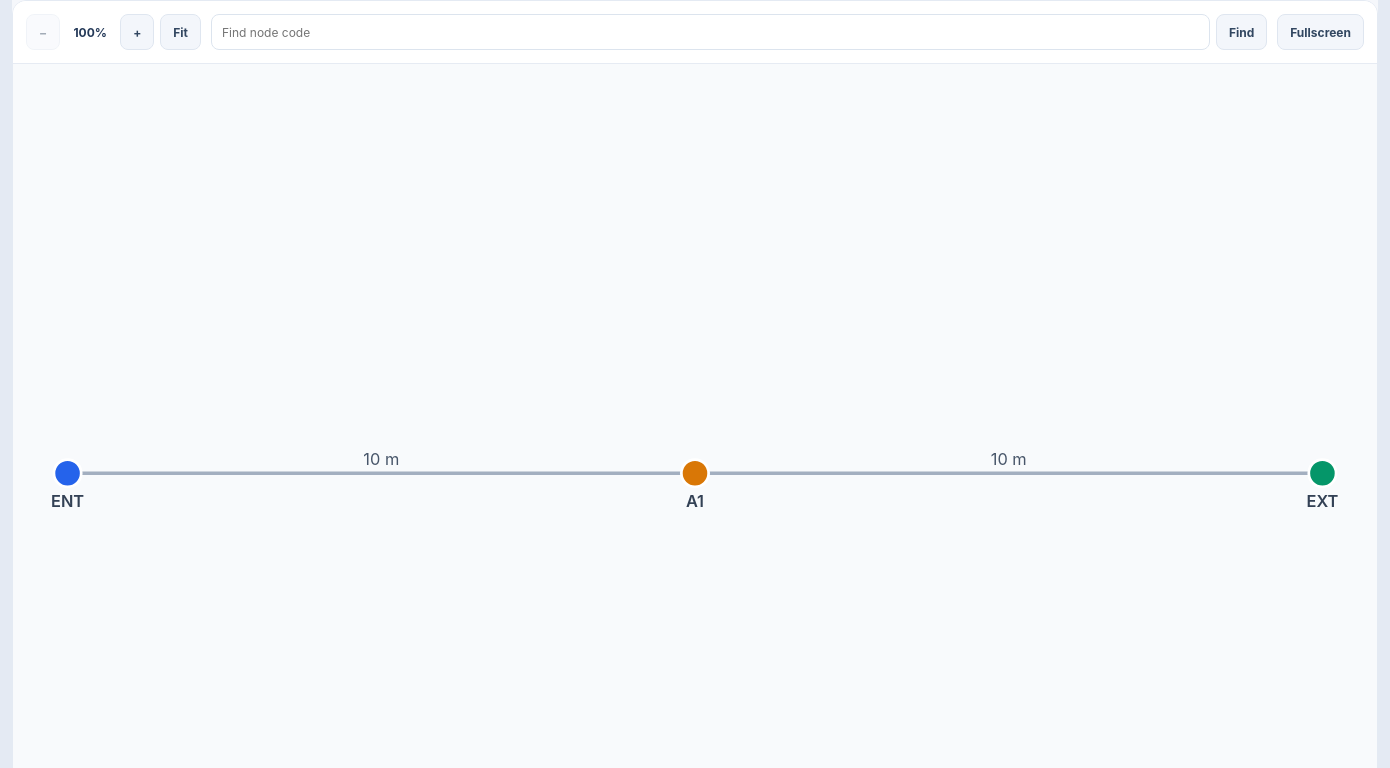
Test: InteractiveWarehouseMap › finds a storage node and displays its details
This screenshot has width=1390, height=768.
Type "A1" into the field named "Find warehouse node" at {"x": 710, "y": 32}, box [211, 14, 1210, 50]
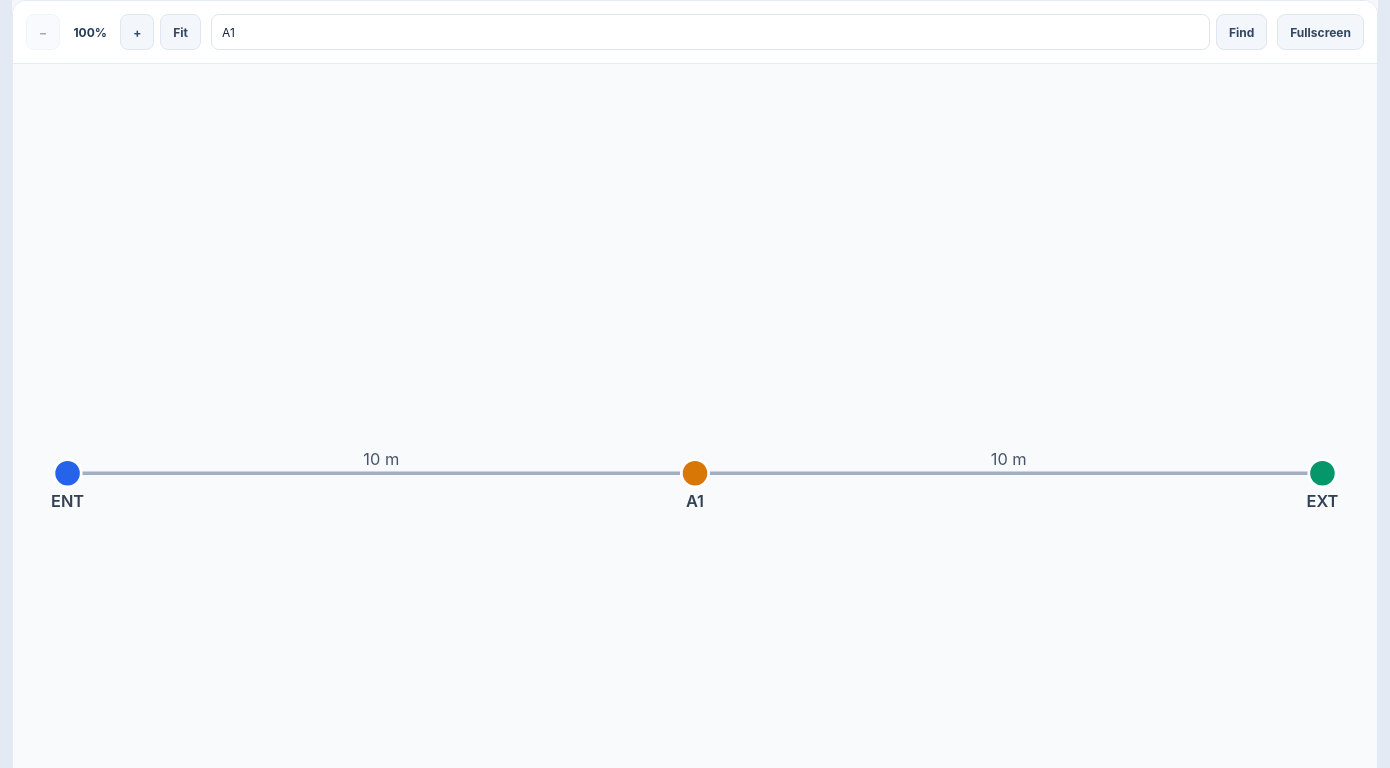
Click the button "Find" at {"x": 1242, "y": 32}, box [1216, 14, 1267, 50]
(page scrolled)
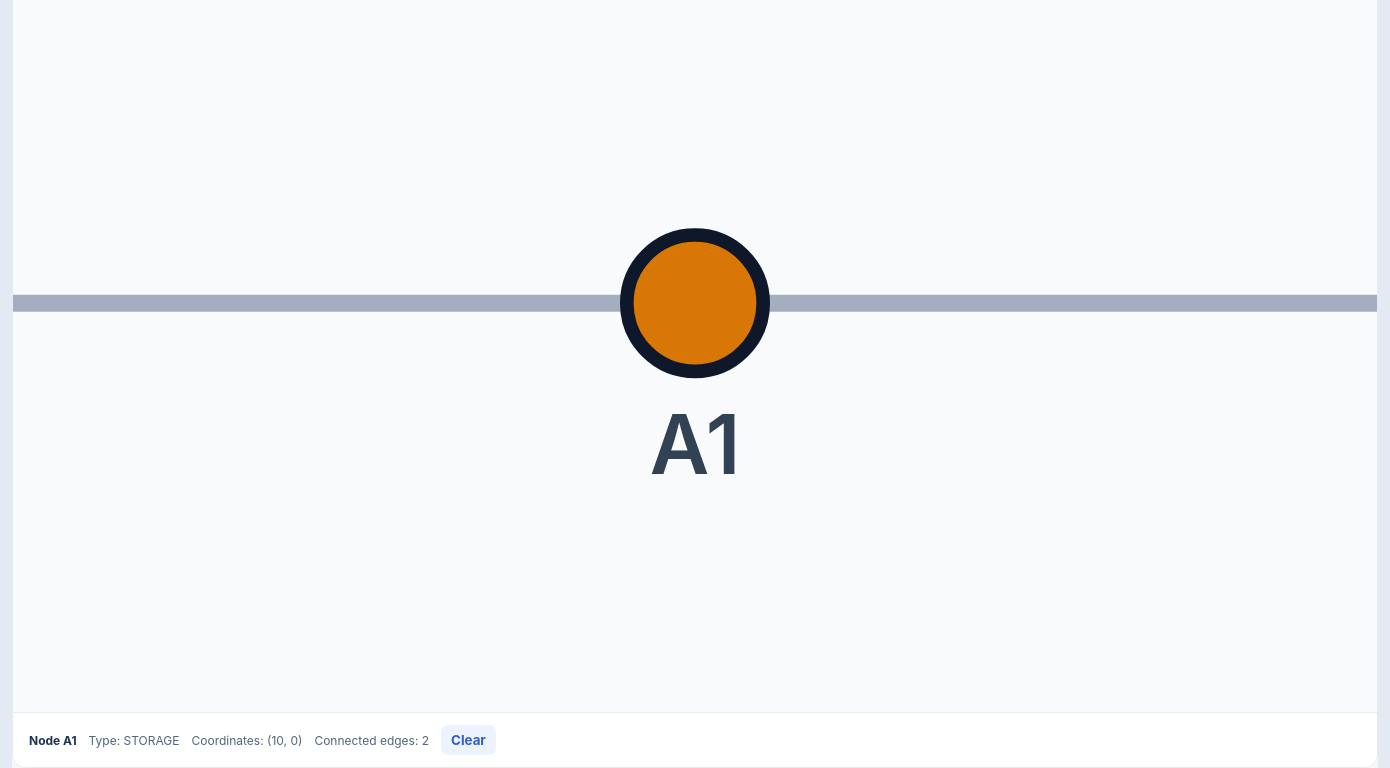
Check: the text "Node A1" is shown, box [29, 733, 77, 748]
Check: the text "STORAGE" is shown, box [124, 733, 180, 748]
